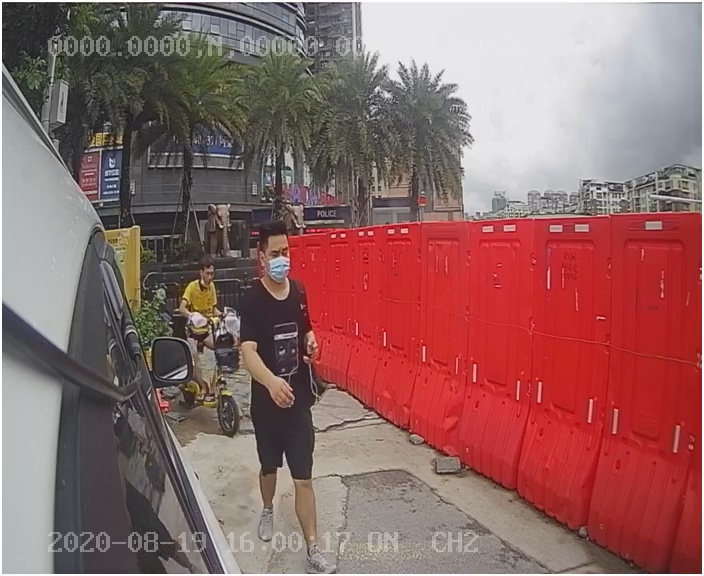person: (231, 229, 355, 527)
